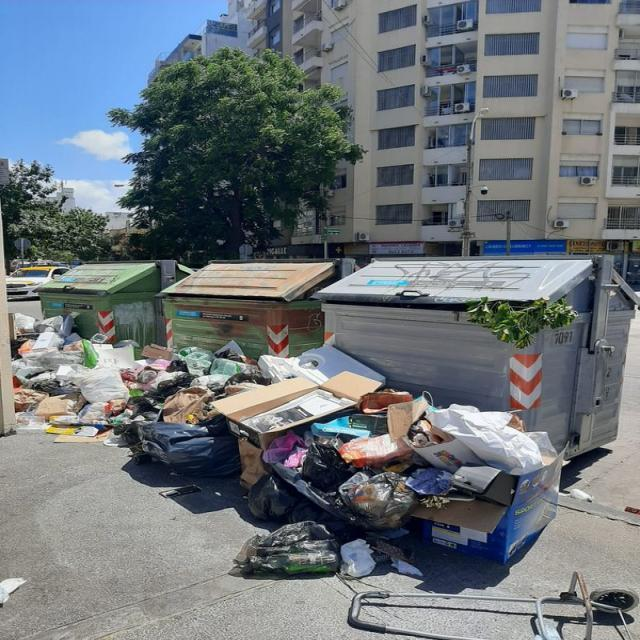garbage: (140, 342, 566, 578), (339, 578, 639, 640), (9, 306, 136, 429)
